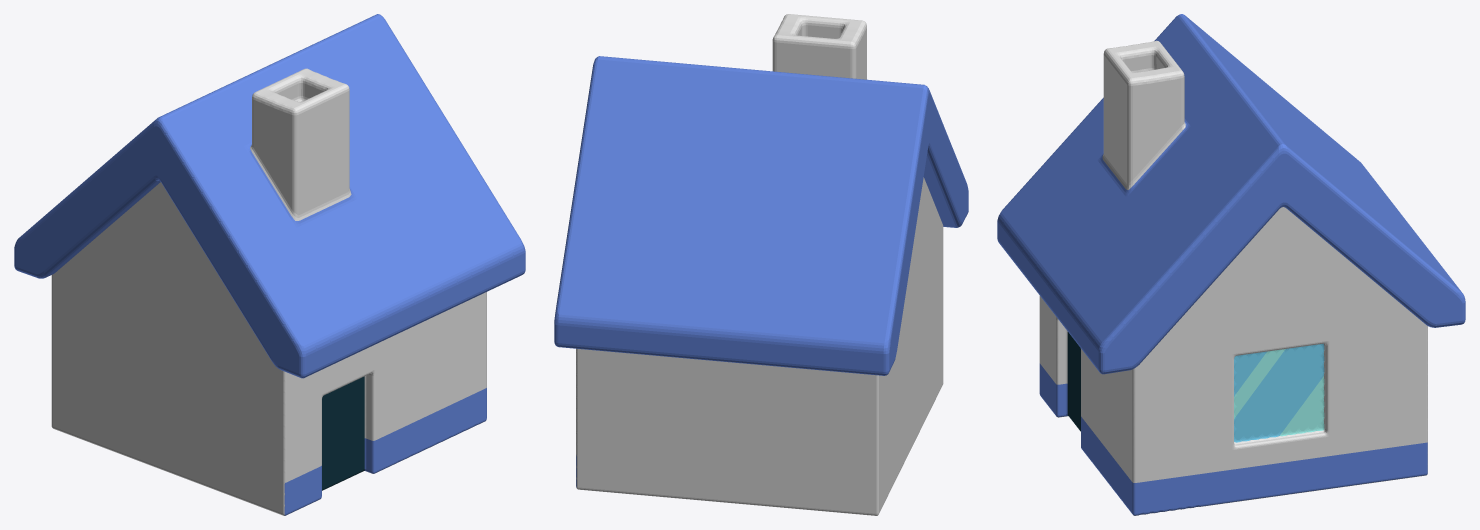
Rendered from House 1.fbx.
3 views of the same model, side by side, from view 1: azimuth 30°, elevation 25°; view 2: azimuth 150°, elevation 25°; view 3: azimuth 270°, elevation 25° (orthographic). The views are drawn at different scales.
Visible parts, largest first — view 1: House 1 - 2; view 2: House 1 - 2; view 3: House 1 - 2.
Part boxes in pixels (left/top/right/bottom): House 1 - 2: left=14, top=14, right=525, bottom=515; House 1 - 2: left=554, top=14, right=968, bottom=515; House 1 - 2: left=997, top=14, right=1465, bottom=515.
Size of the model in its own units: 81.94 by 76.9 by 88.17.
